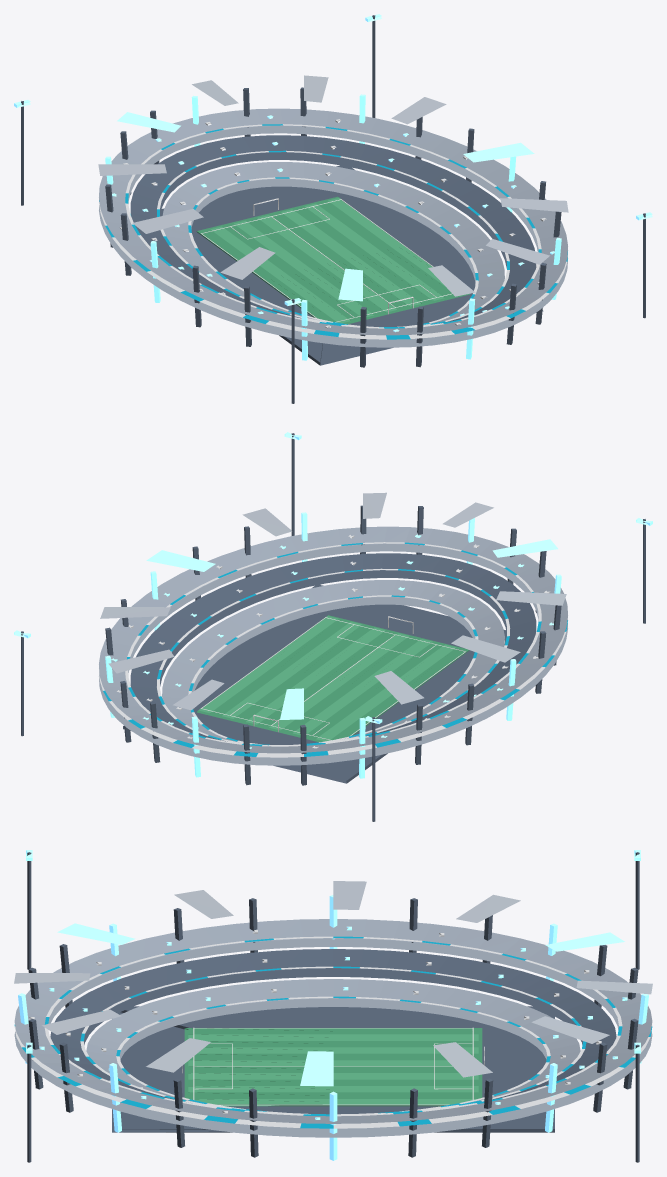
Rendered from mineirao.glb.
3 renders of one model, top to bottom at view 1: azimuth 30°, elevation 25°; view 2: azimuth 150°, elevation 25°; view 3: azimuth 270°, elevation 25°, orthographic. The views are drawn at different scales.
Visible parts, largest first — view 1: Mineirão; view 2: Mineirão; view 3: Mineirão.
Boxes of the visible parts, x1,y1,x2,y2 form: Mineirão: (14,14,652,403); Mineirão: (14,432,652,821); Mineirão: (14,850,652,1162).
Size of the model in its own units: 63.68 by 17.65 by 83.68.
